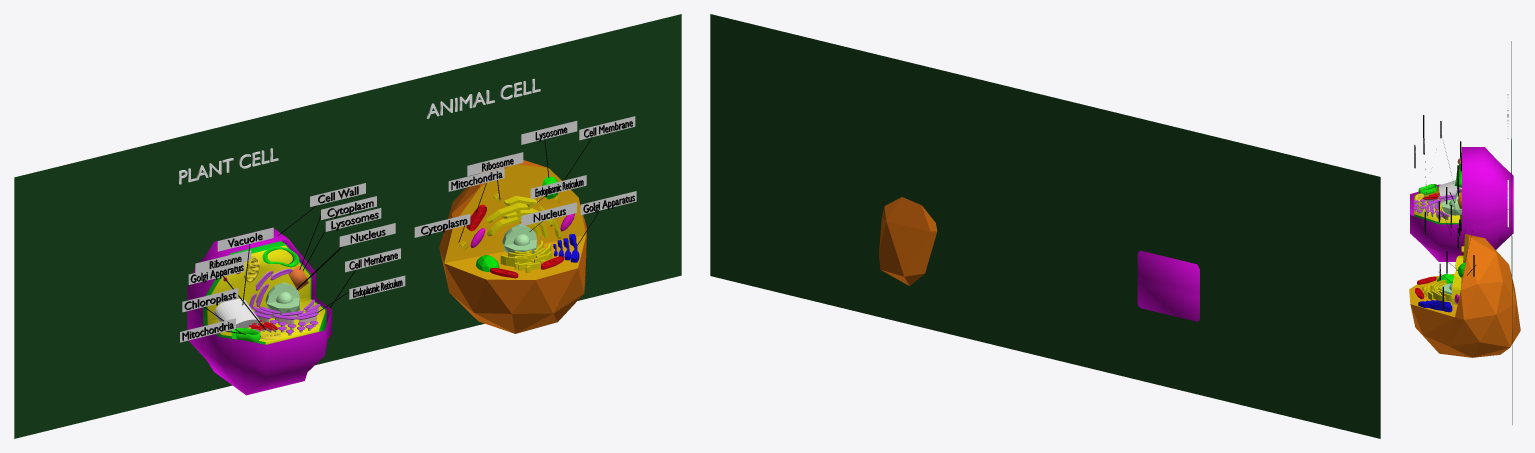
File: cells.gltf
3 views of the same model, side by side, from view 1: azimuth 30°, elevation 25°; view 2: azimuth 150°, elevation 25°; view 3: azimuth 270°, elevation 25° (orthographic). The views are drawn at different scales.
Parts seen in each view (by area): view 1: Plane.013, Icosphere, Outside, main, Cube.037, Blue_Top, Cylinder, Text.009, Icosphere.003, Icosphere.001, Text.008, Outside.001 (+2 smaller); view 2: Plane.013, Icosphere, Outside; view 3: Icosphere, Outside, main, Plane.013, Blue_Top, Cube, Cube.037, Cube.005, Icosphere.003, Verde_Interno, Cylinder, Base_Azules.
Boxes of the visible parts, x1,y1,x2,y2 form: Plane.013: [14, 14, 681, 438]; Icosphere: [439, 160, 587, 333]; Outside: [187, 227, 331, 395]; main: [207, 245, 325, 344]; Cube.037: [486, 196, 561, 238]; Blue_Top: [249, 269, 320, 333]; Cylinder: [214, 298, 261, 332]; Text.009: [426, 79, 540, 118]; Icosphere.003: [265, 282, 299, 315]; Icosphere.001: [502, 224, 537, 253]; Text.008: [179, 148, 278, 184]; Outside.001: [203, 241, 326, 344]; Plane.013: [710, 14, 1380, 438]; Icosphere: [879, 197, 937, 285]; Outside: [1137, 250, 1199, 321]; Icosphere: [1409, 234, 1520, 357]; Outside: [1410, 147, 1513, 261]; main: [1414, 187, 1461, 222]; Plane.013: [1511, 41, 1512, 424]; Blue_Top: [1413, 187, 1460, 216]; Cube: [1428, 280, 1451, 301]; Cube.037: [1451, 255, 1463, 304]; Cube.005: [1418, 300, 1452, 312]; Icosphere.003: [1441, 192, 1461, 215]; Verde_Interno: [1418, 164, 1461, 194]; Cylinder: [1439, 180, 1457, 196]; Base_Azules: [1414, 187, 1461, 220].
Bounding box in the file's own units: 15.94 × 5.96 × 3.19.
